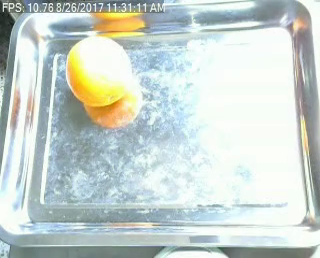Orange: (65, 37, 130, 107)
